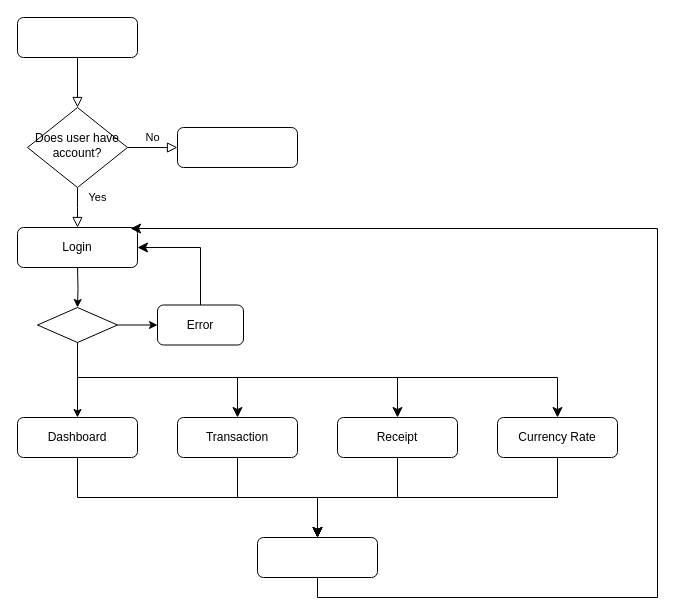
This 685x615 diagram has some shape labels left out. The shapes that lost their labels are listed below. From the top down, each one's centre as x and y in pixels, then its label:
the point at 77,37: Welcome Page
the point at 237,147: Sign Up
the point at 317,557: Log out
